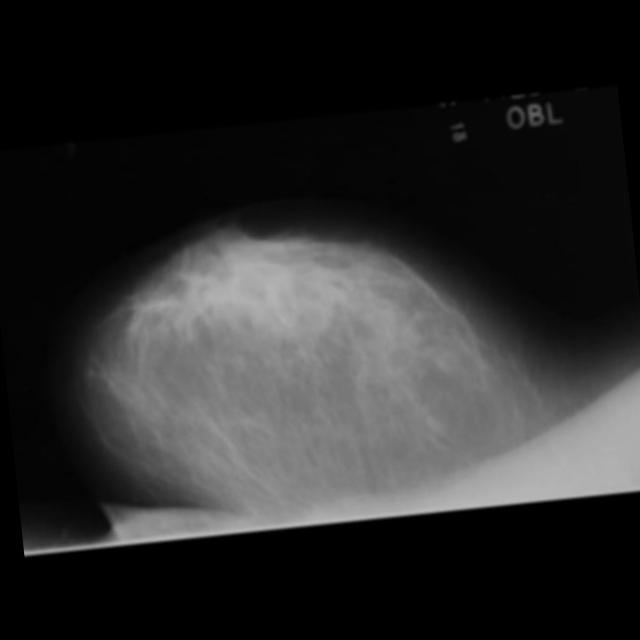CALC: (387, 303, 398, 314)
